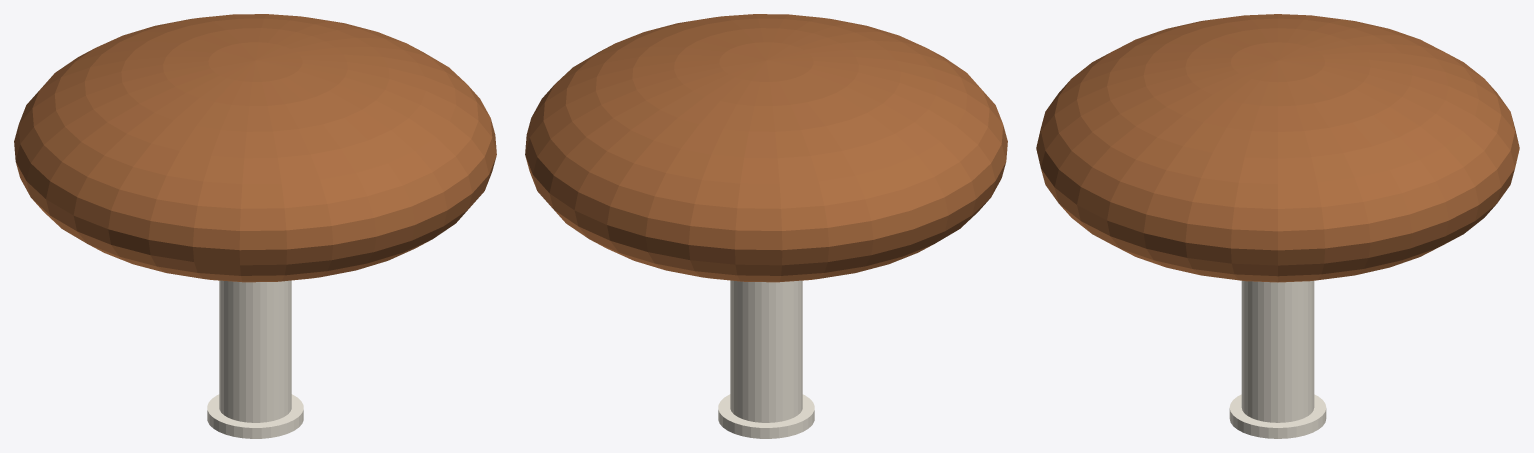
Rendered from lamp7.glb.
3 renders of one model, left to right at view 1: azimuth 30°, elevation 25°; view 2: azimuth 150°, elevation 25°; view 3: azimuth 270°, elevation 25°, orthographic.
Visible parts, largest first — view 1: L7_Cap, L7_Stem, L7_Base; view 2: L7_Cap, L7_Stem, L7_Base; view 3: L7_Cap, L7_Stem, L7_Base.
Boxes of the visible parts, <box> form: L7_Cap: <box>14,14,496,282</box>; L7_Stem: <box>219,280,291,422</box>; L7_Base: <box>207,394,303,438</box>; L7_Cap: <box>525,14,1007,282</box>; L7_Stem: <box>730,280,802,422</box>; L7_Base: <box>718,394,814,438</box>; L7_Cap: <box>1036,14,1519,282</box>; L7_Stem: <box>1241,281,1314,422</box>; L7_Base: <box>1229,394,1326,438</box>.
Bounding box in the file's own units: 0.6 × 0.49 × 0.6.
